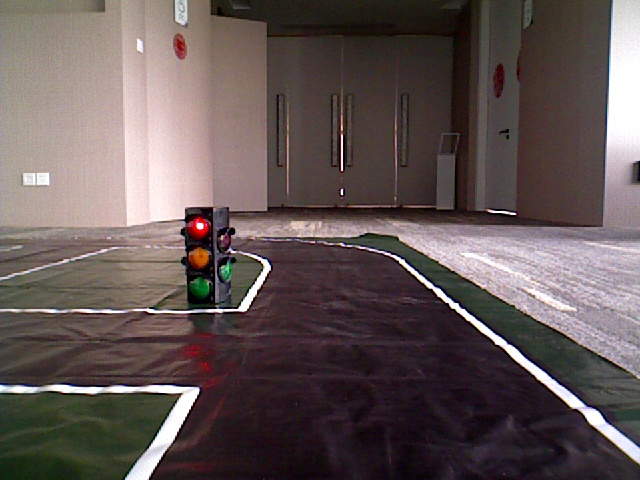red: (185, 207, 214, 301)
